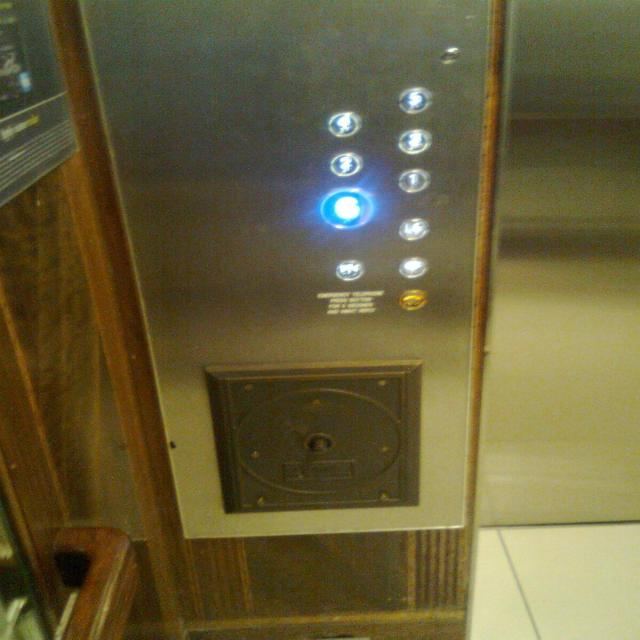1: (390, 165, 432, 198)
2: (324, 146, 366, 180)
LG: (393, 213, 432, 244)
blur: (315, 186, 378, 232), (322, 108, 364, 142), (394, 84, 436, 117), (392, 126, 434, 159), (392, 253, 432, 284), (391, 286, 430, 317)
close: (329, 254, 368, 285)
